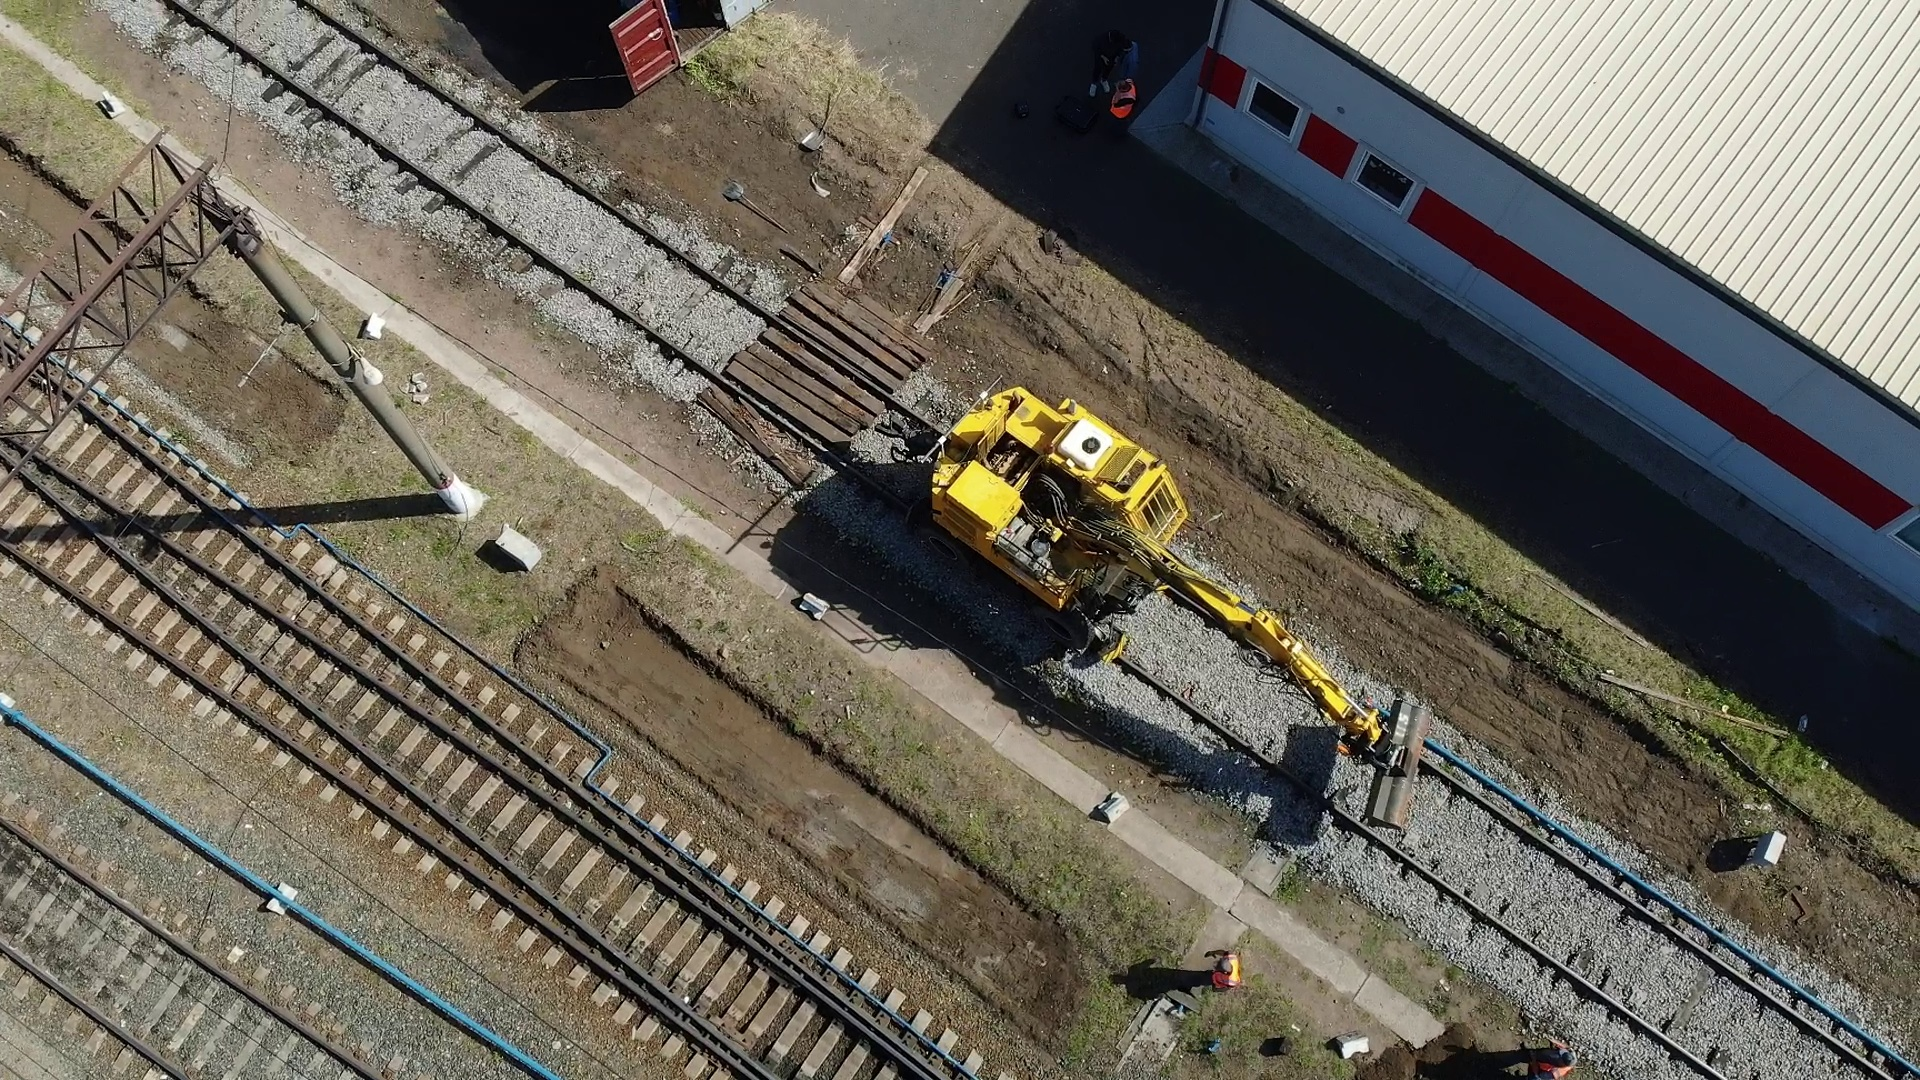kjtv: (899, 384, 1251, 640)
